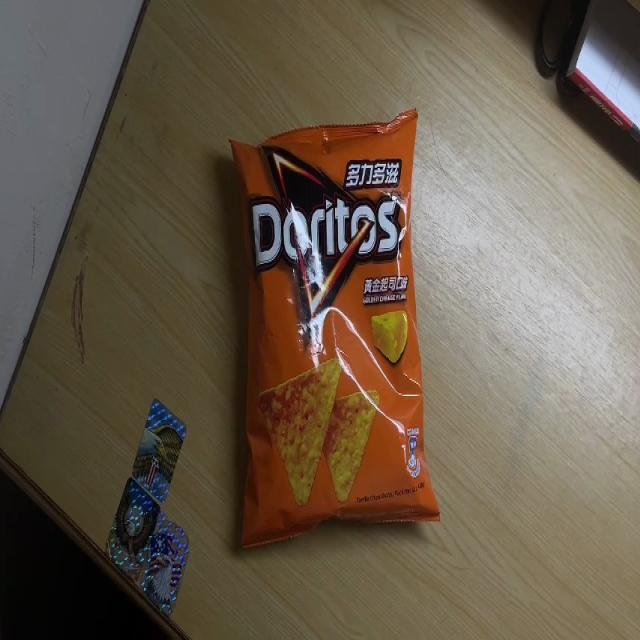Doritos: (228, 104, 441, 560)
